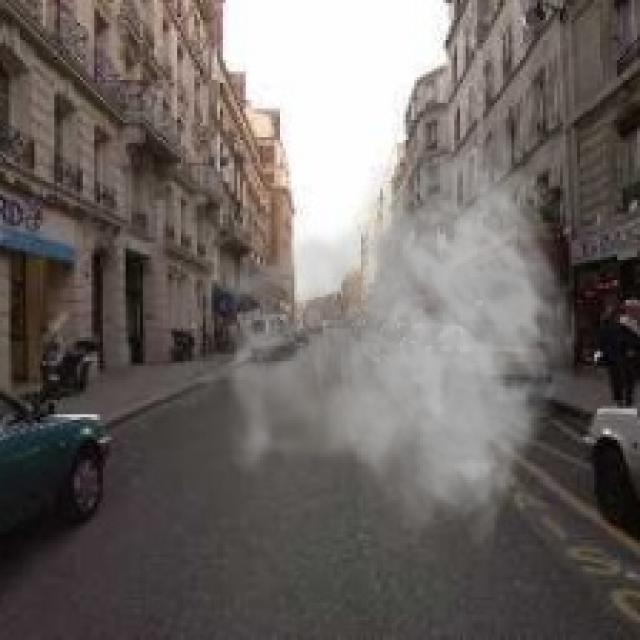smoke: (192, 134, 577, 552)
